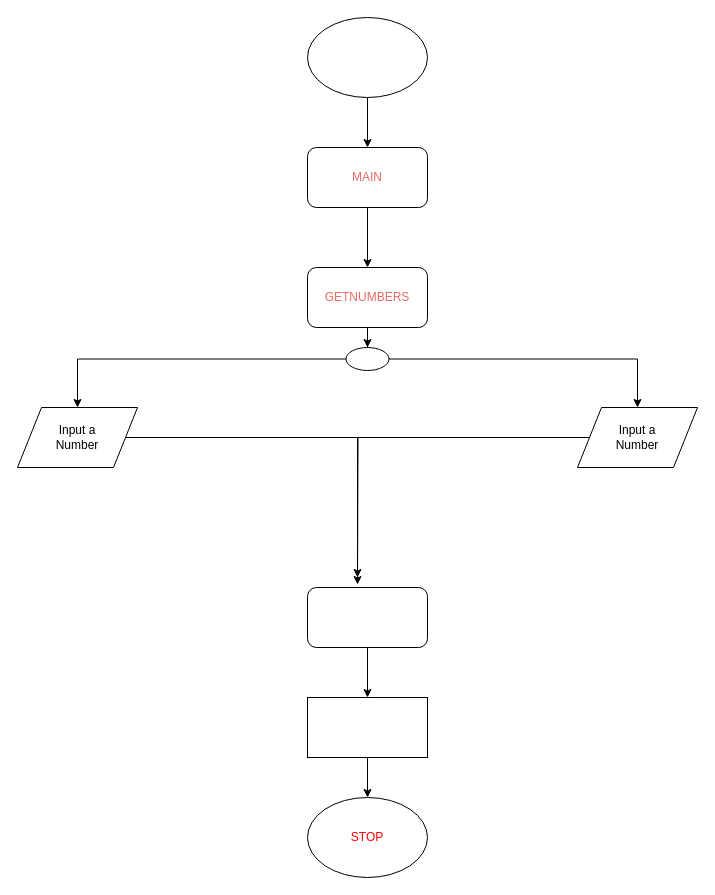
The diagram is 715 pixels wide and 895 high, and some of its shapes have lost their labels. Each missing label, with the centre of its shape:
return SUM: the point at 367,727
START: the point at 367,57
sum = numberOne + numberTwo: the point at 367,617
